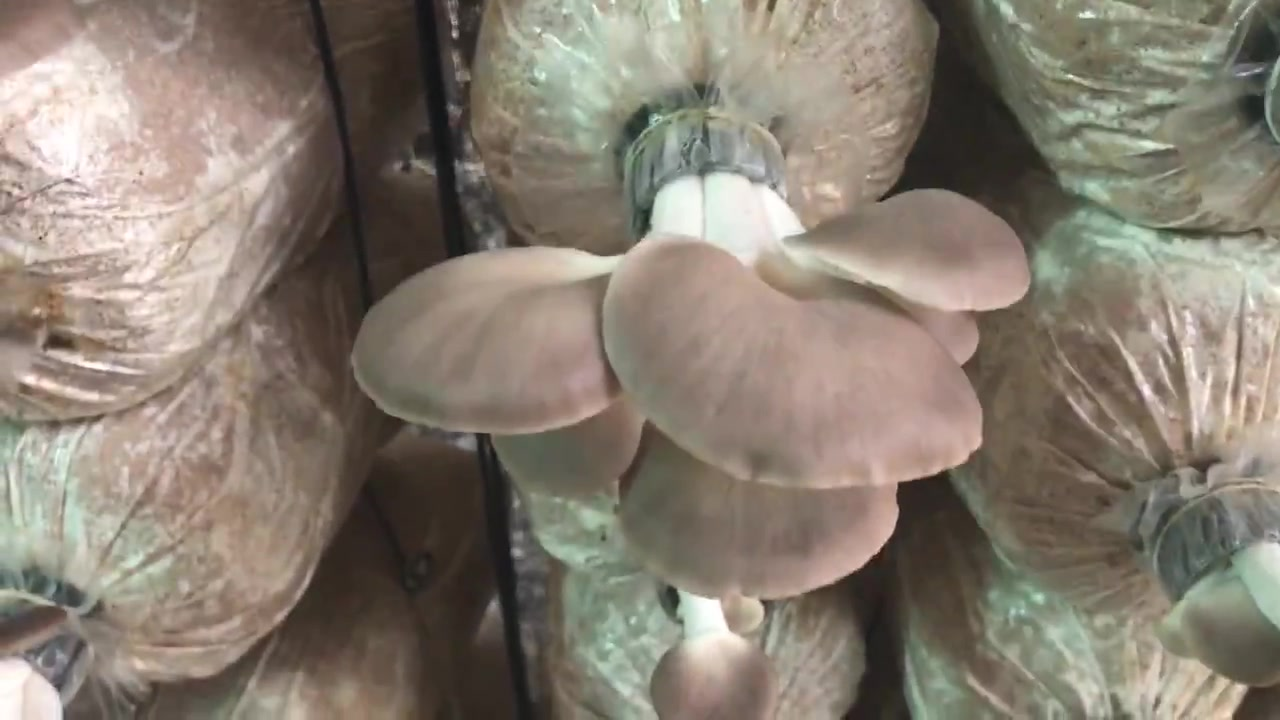nam: (354, 114, 1027, 596), (1158, 479, 1279, 683), (650, 584, 774, 720), (1, 591, 80, 720)
